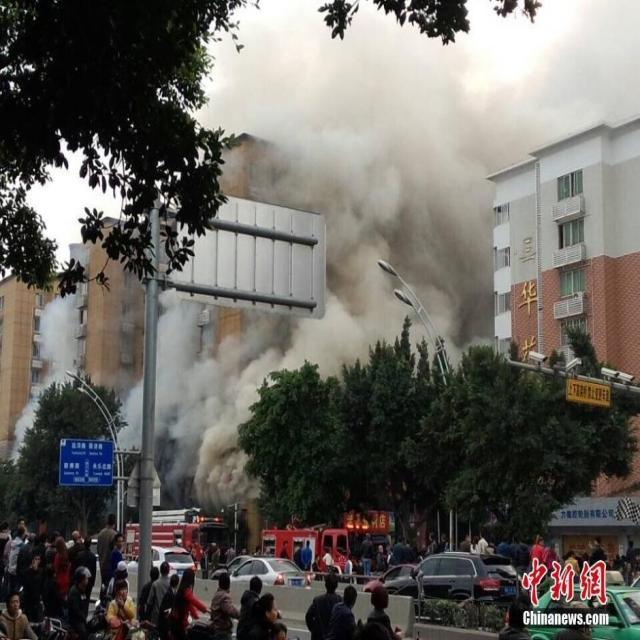Smoke: (216, 0, 640, 366), (152, 296, 290, 508), (12, 288, 84, 471), (114, 378, 146, 451)
